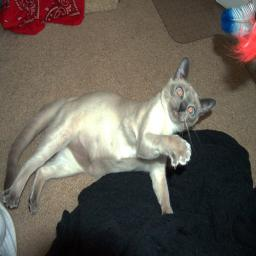catnose: (178, 101, 187, 113)
